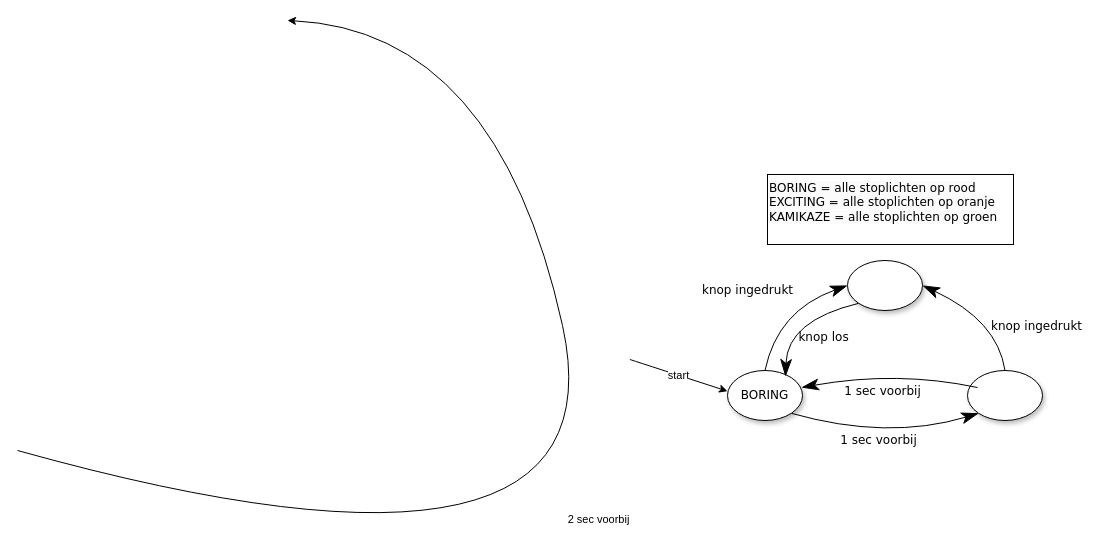
This 1100x544 diagram has some shape labels left out. The centre of each missing label's shape, as x and y in pixels:
EXCITING: the point at 885,287
KAMIKAZE: the point at 1005,397
